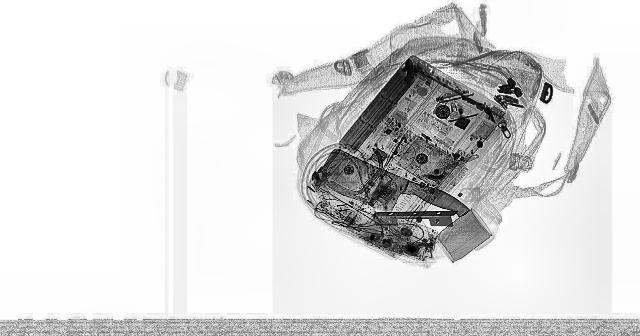Knife: (292, 149, 478, 231)
